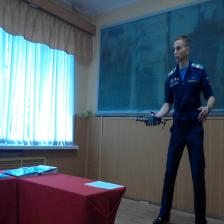drone: (133, 105, 173, 135)
